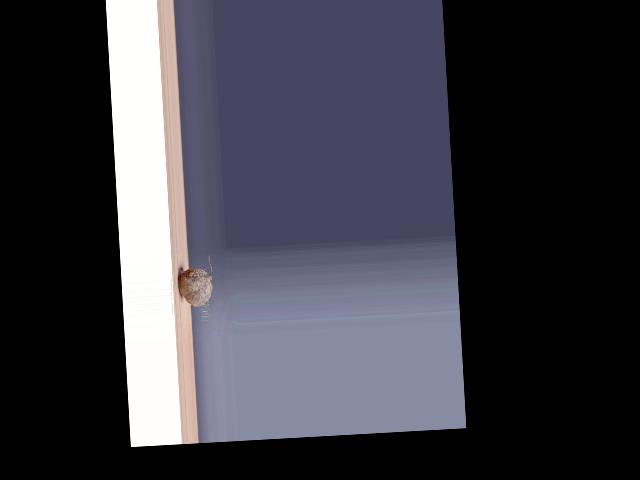beet: (177, 254, 213, 307)
